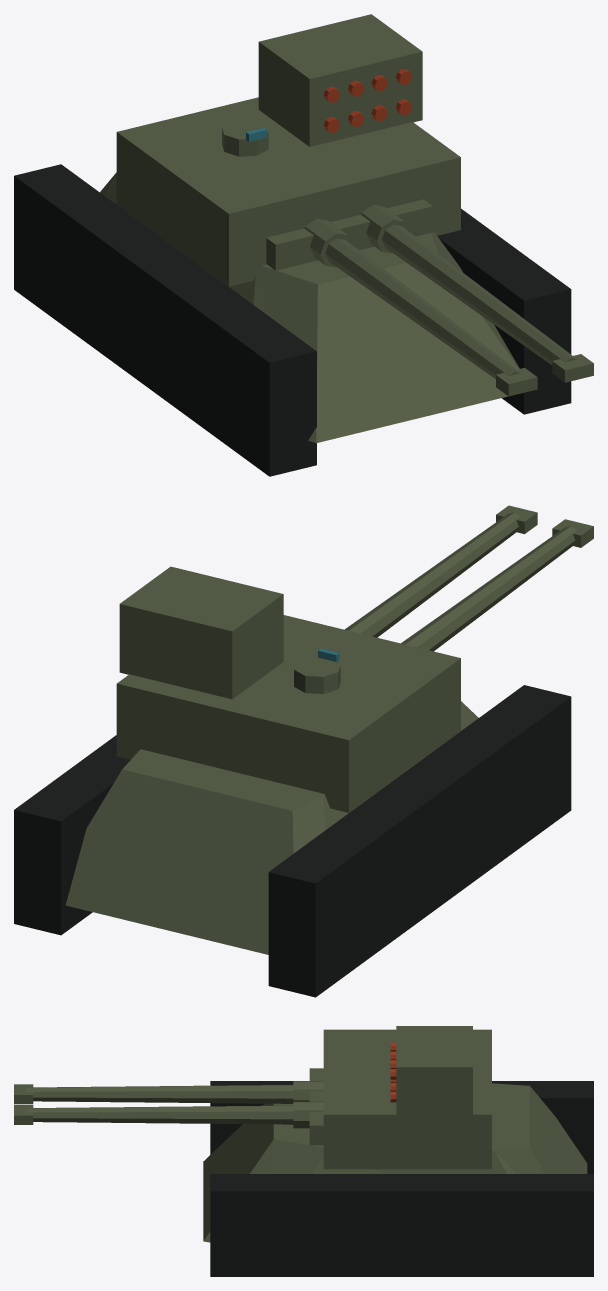
File: Bastion_HT77_LOD1.obj
3 views of the same model, one above another, from view 1: azimuth 30°, elevation 25°; view 2: azimuth 150°, elevation 25°; view 3: azimuth 270°, elevation 25° (orthographic). The views are drawn at different scales.
Visible parts, largest first — view 1: Bastion_HT77_LOD1; view 2: Bastion_HT77_LOD1; view 3: Bastion_HT77_LOD1.
Part boxes in pixels (box(x1,y1,x2,y2)): Bastion_HT77_LOD1: box(14, 14, 593, 476); Bastion_HT77_LOD1: box(14, 505, 593, 997); Bastion_HT77_LOD1: box(14, 1026, 593, 1276).
Size of the model in its own units: 4.6 by 3.89 by 10.2.
1 material, 1 textured.
